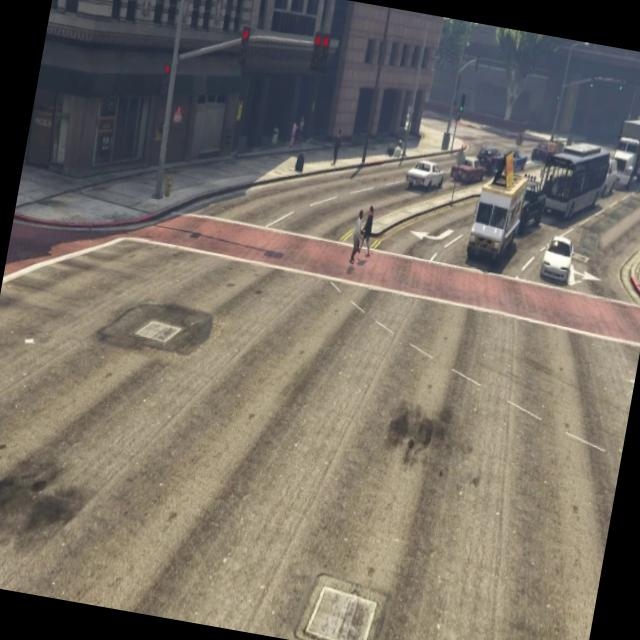Red-Signal: (298, 16, 340, 88), (228, 8, 260, 78), (150, 41, 183, 98)
